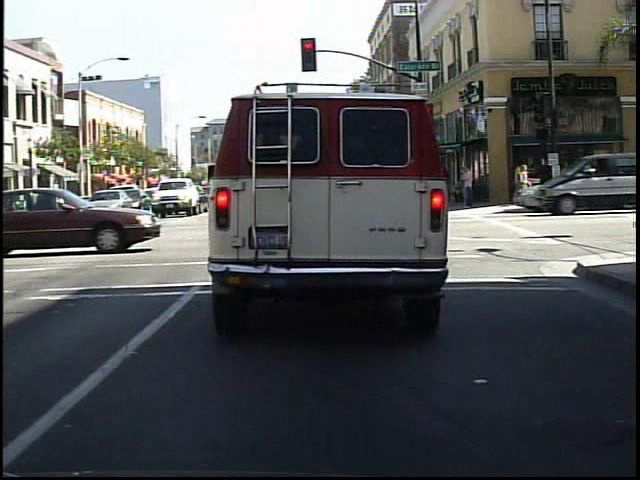person: (537, 155, 558, 211), (511, 163, 531, 207)
